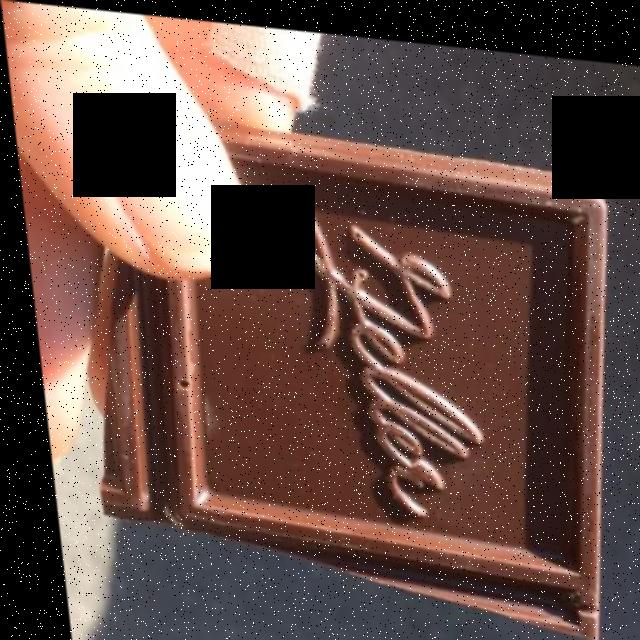chocolate: (92, 112, 603, 627), (91, 128, 602, 629), (165, 149, 566, 607)
